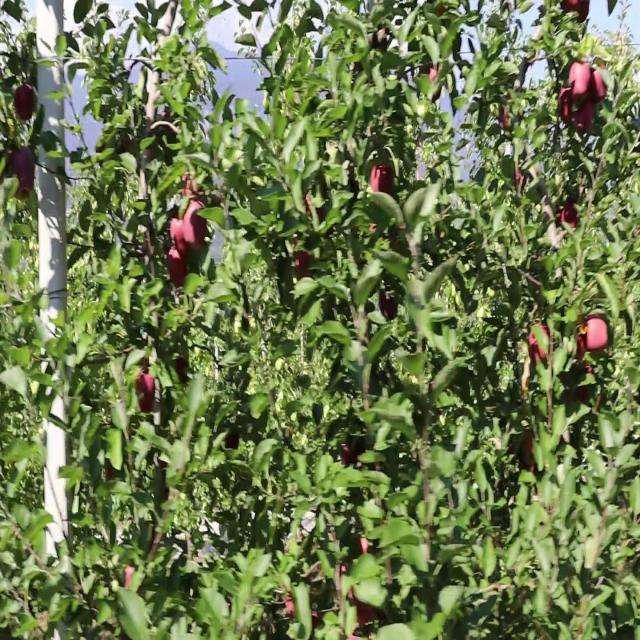apple: (8, 149, 36, 201), (184, 206, 208, 249), (528, 327, 553, 368), (136, 369, 157, 412), (588, 312, 609, 354), (568, 63, 591, 100), (168, 248, 188, 290), (372, 163, 396, 197), (16, 85, 37, 123), (576, 99, 596, 135), (520, 433, 538, 473), (304, 191, 326, 222), (564, 0, 591, 23), (296, 248, 313, 283), (380, 291, 399, 322), (356, 599, 377, 626), (424, 63, 441, 96), (592, 71, 608, 105), (368, 28, 390, 52), (560, 92, 575, 126), (180, 177, 202, 199), (424, 63, 441, 91), (172, 220, 187, 251), (560, 206, 580, 229), (576, 327, 588, 361), (576, 383, 592, 405), (340, 447, 355, 469), (176, 362, 188, 386), (500, 106, 511, 132), (104, 462, 117, 484), (284, 597, 296, 619), (124, 568, 135, 592), (516, 170, 527, 194), (360, 533, 371, 555), (228, 433, 240, 453)
